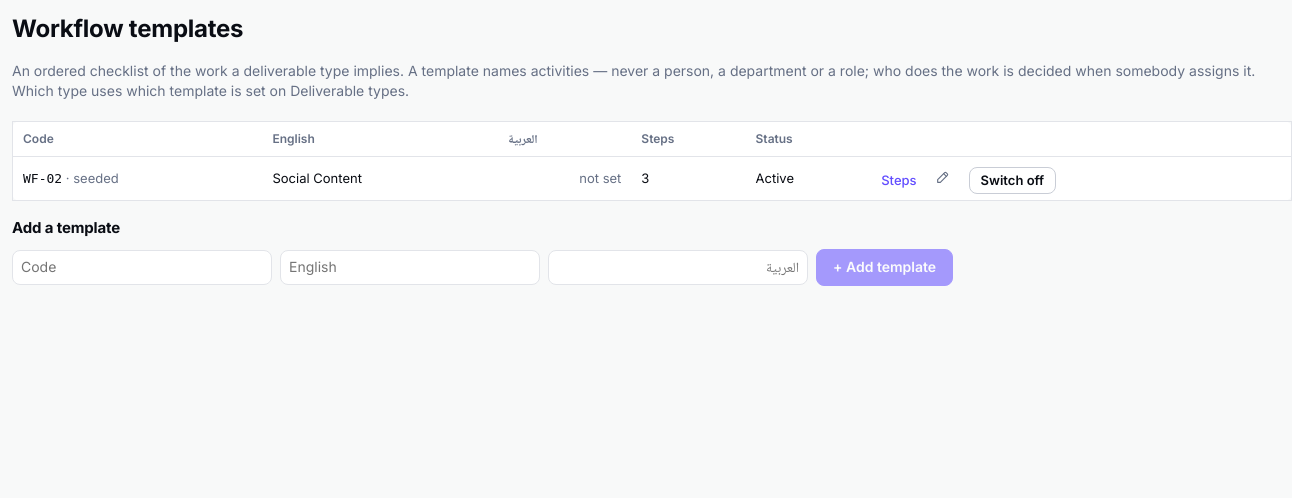
it: WorkflowTemplatesPage (ADR-0052, I19.12) › shows a step estimate as an estimate, never as an SLA
The width and height of the screenshot is (1292, 498).
Click the button with test id "workflow-open-WF-02": (899, 181) [881,173,917,188]
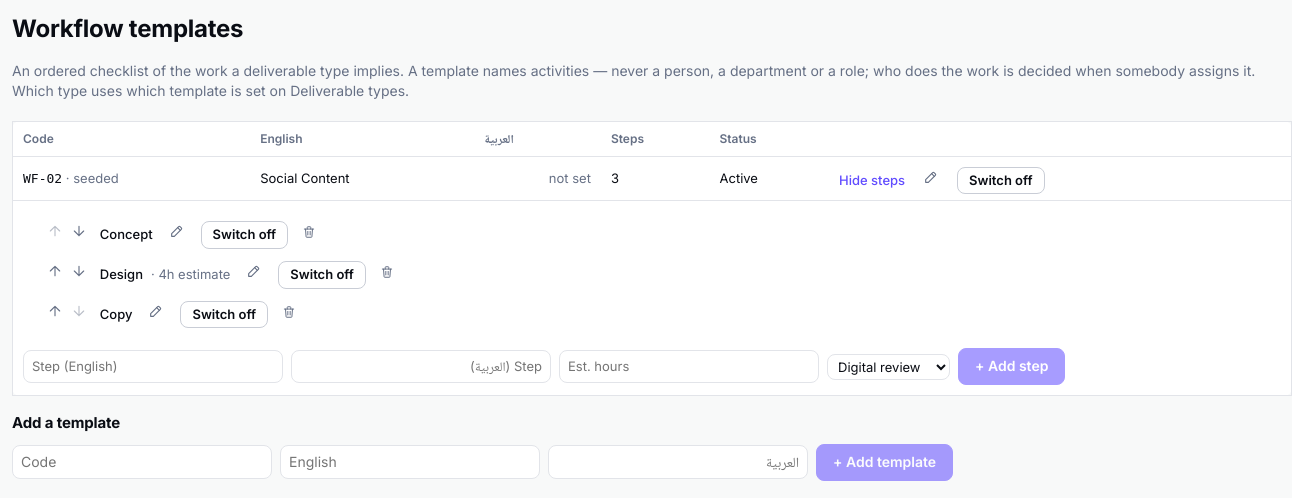
Check: the list item with test id "workflow-step-s2" shows "estimate", box [158,266,230,282]
